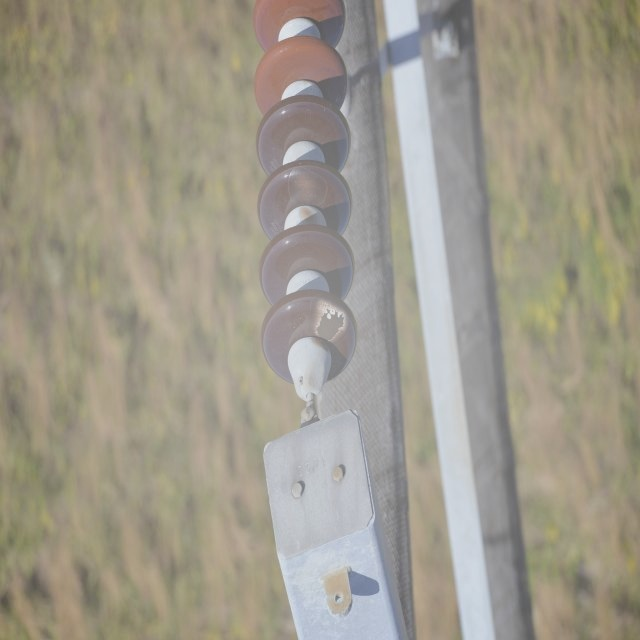insulator: (251, 0, 357, 386)
